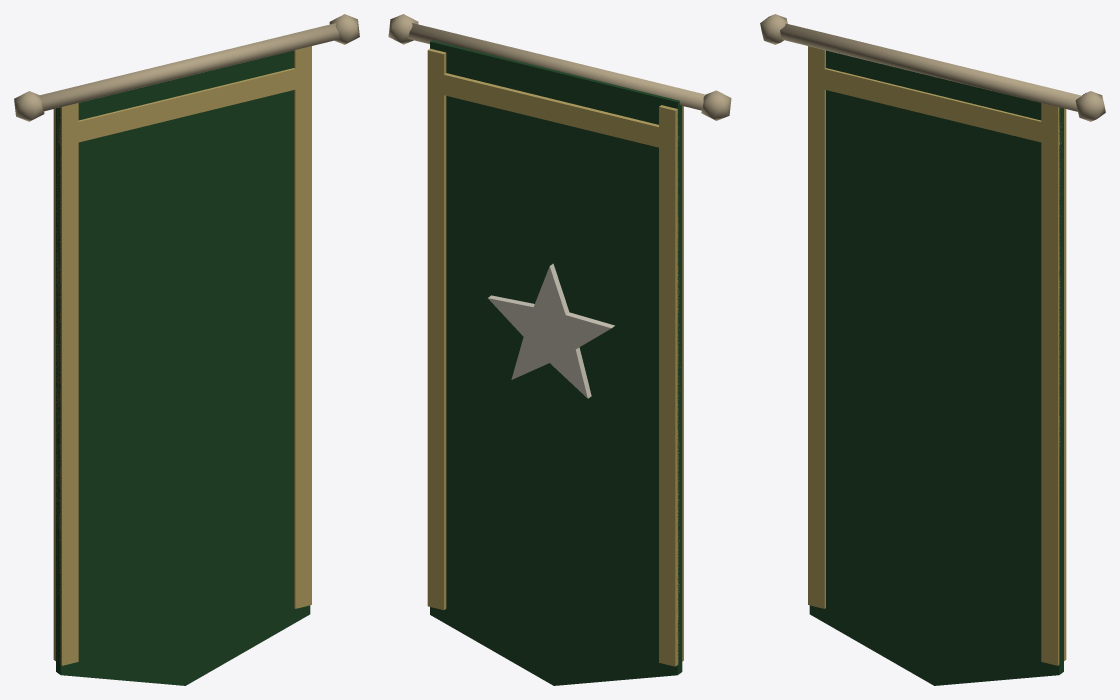
Rendered from selenian_banner_v0.glb.
3 renders of one model, left to right at view 1: azimuth 30°, elevation 25°; view 2: azimuth 150°, elevation 25°; view 3: azimuth 330°, elevation 25°, orthographic.
Visible parts, largest first — view 1: selenian_banner_v0; view 2: selenian_banner_v0; view 3: selenian_banner_v0.
Boxes of the visible parts, box(x1,y1,x2,y2) form: selenian_banner_v0: box(14, 14, 359, 685); selenian_banner_v0: box(388, 14, 731, 685); selenian_banner_v0: box(760, 14, 1105, 685).
Bounding box in the file's own units: 1.04 × 1.84 × 0.0933.
